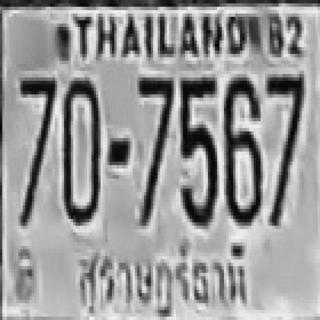N00: (62, 78, 98, 222)
N05: (178, 74, 215, 222)
N06: (222, 74, 261, 222)
N07: (266, 71, 303, 222), (18, 76, 55, 224), (137, 76, 171, 224)
P67: (70, 239, 248, 316)
